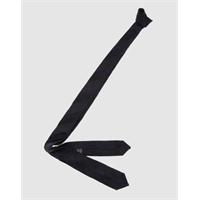tie: (44, 8, 152, 190)
